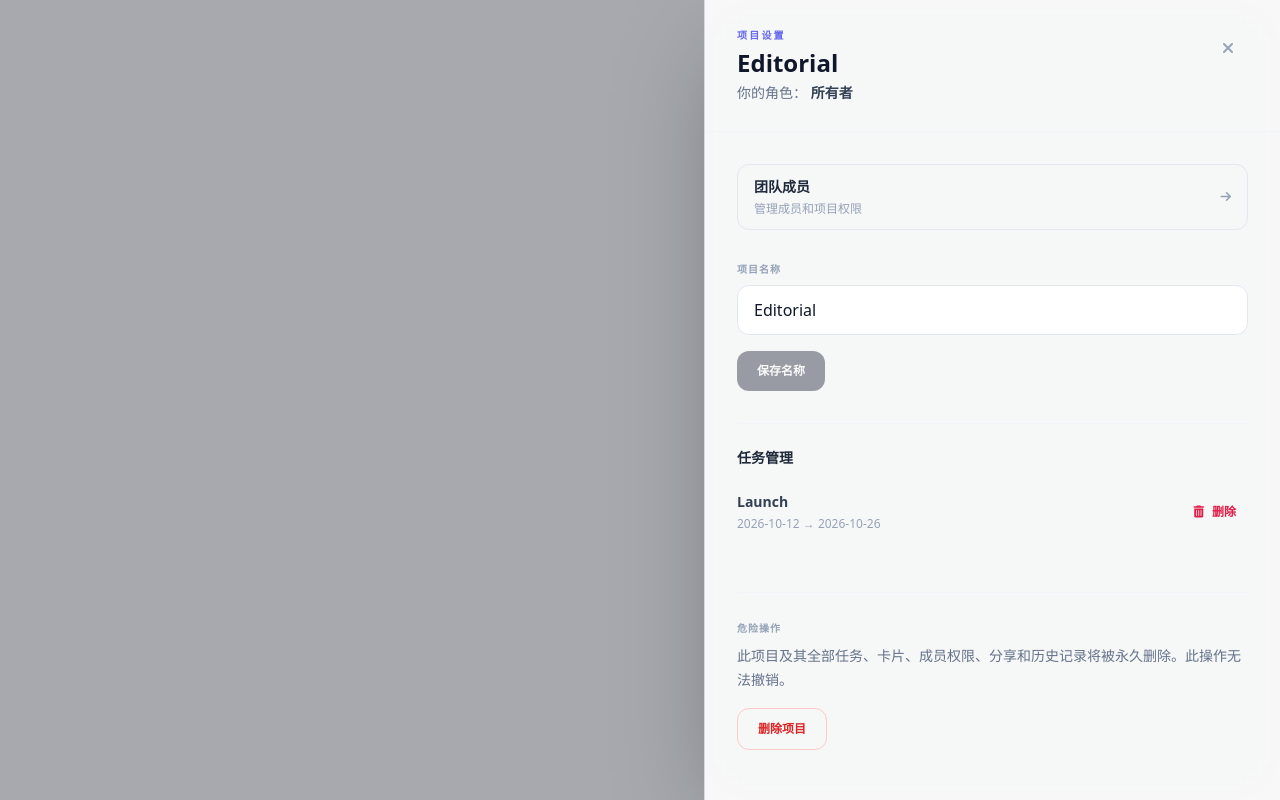
task permanent deletion in project settings › describes permanent deletion and the affected data in Chinese
Click the button "删除". click: click(1215, 512)
box: [1182, 496, 1248, 528]
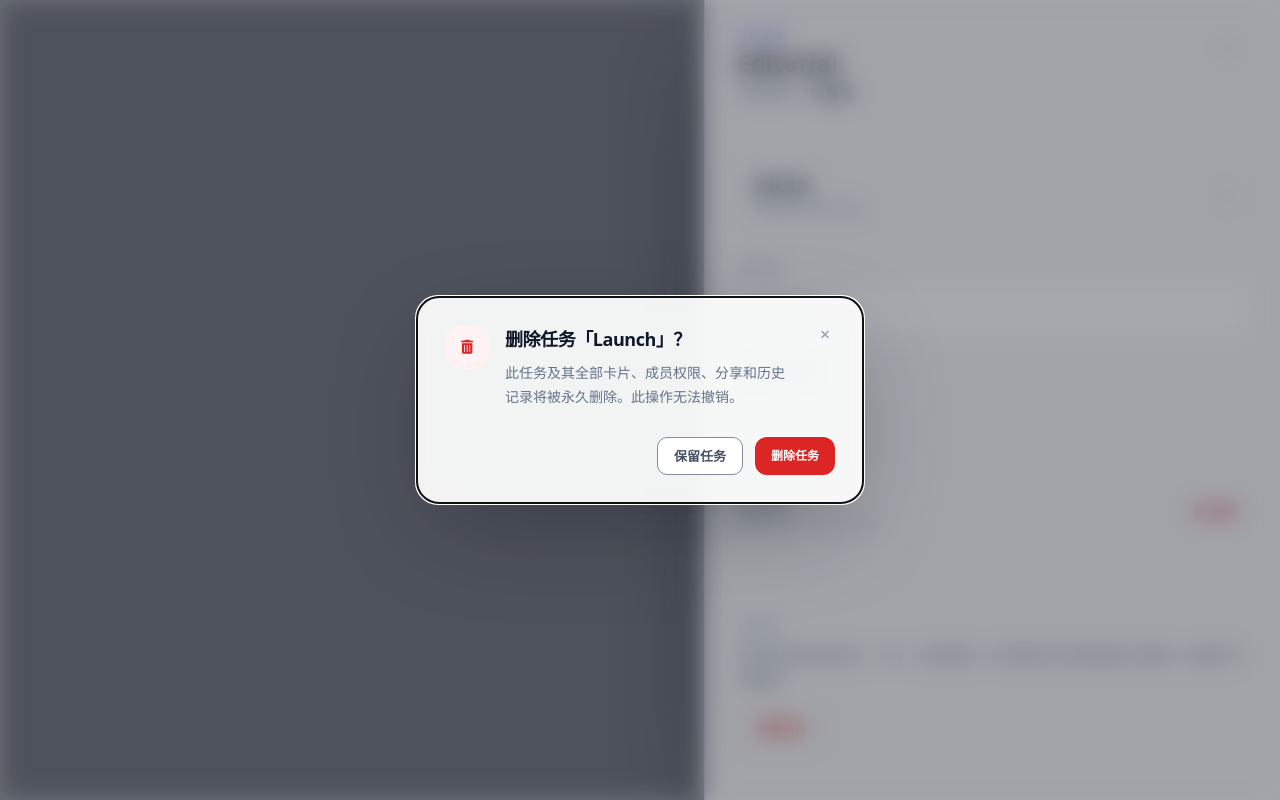
Expected: the text "此任务及其全部卡片、成员权限、分享和历史记录将被永久删除。此操作无法撤销。" is shown, [505, 361, 791, 409]
